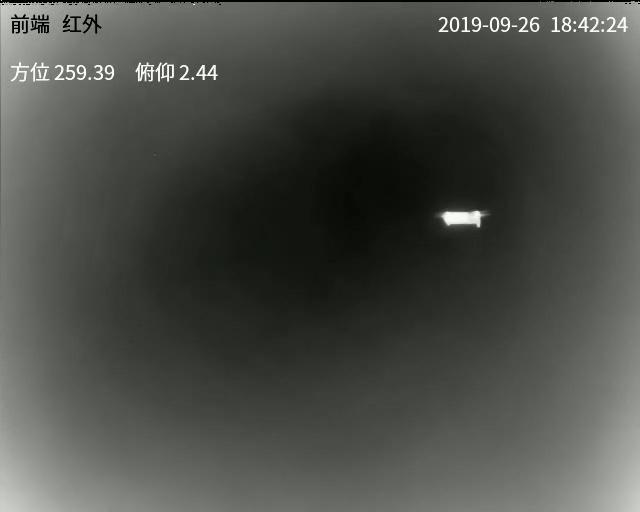uav: (428, 206, 484, 230)
